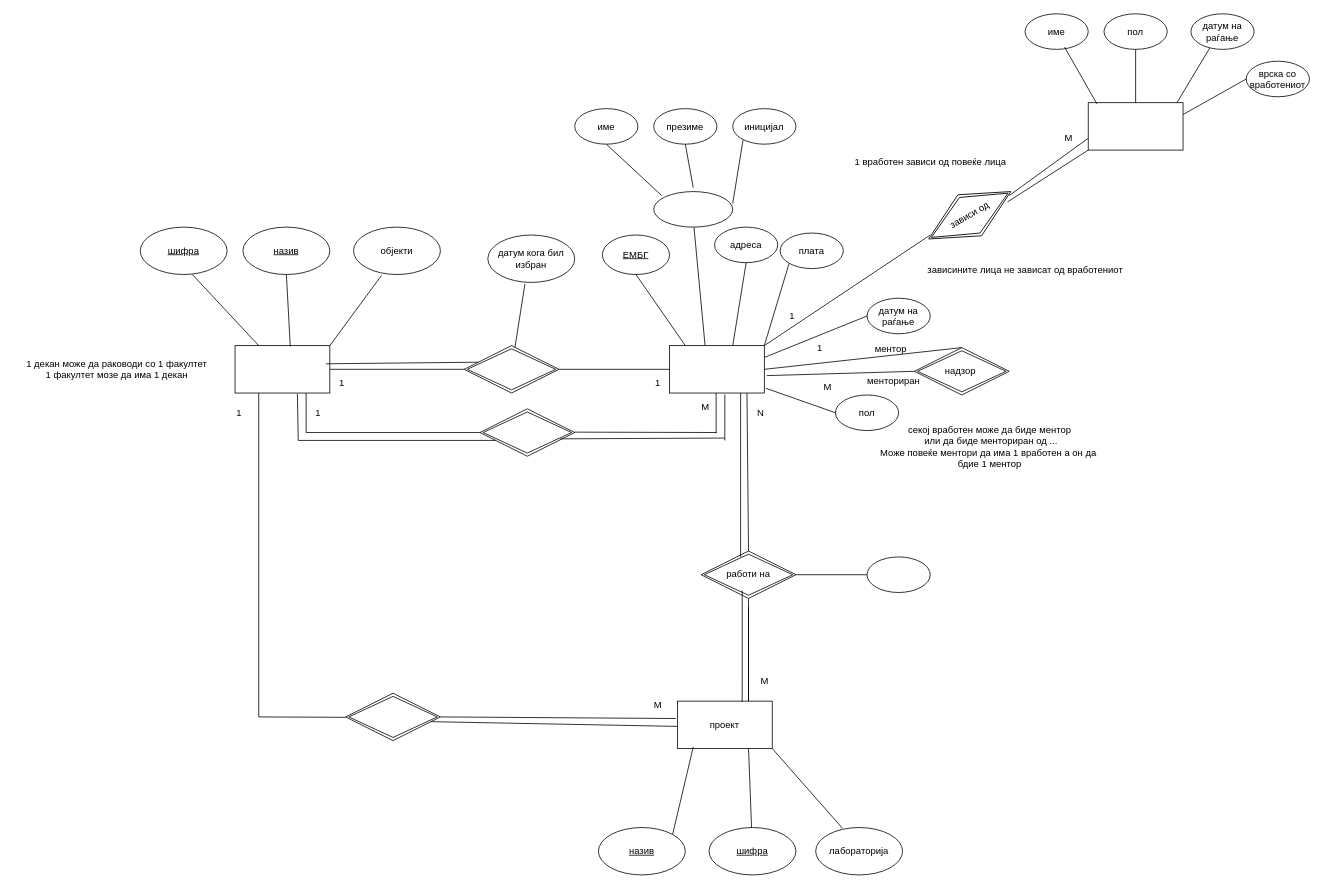
This 1323x889 diagram has some shape labels left out. Each missing label, with the centre of its shape:
број на часови: the point at 898,574
вработен: the point at 716,369
зависни лица: the point at 1135,126
контакт инфо: the point at 693,209
работи во: the point at 527,432
раководи со: the point at 511,369
управува со: the point at 392,716
факултет: the point at 282,369
